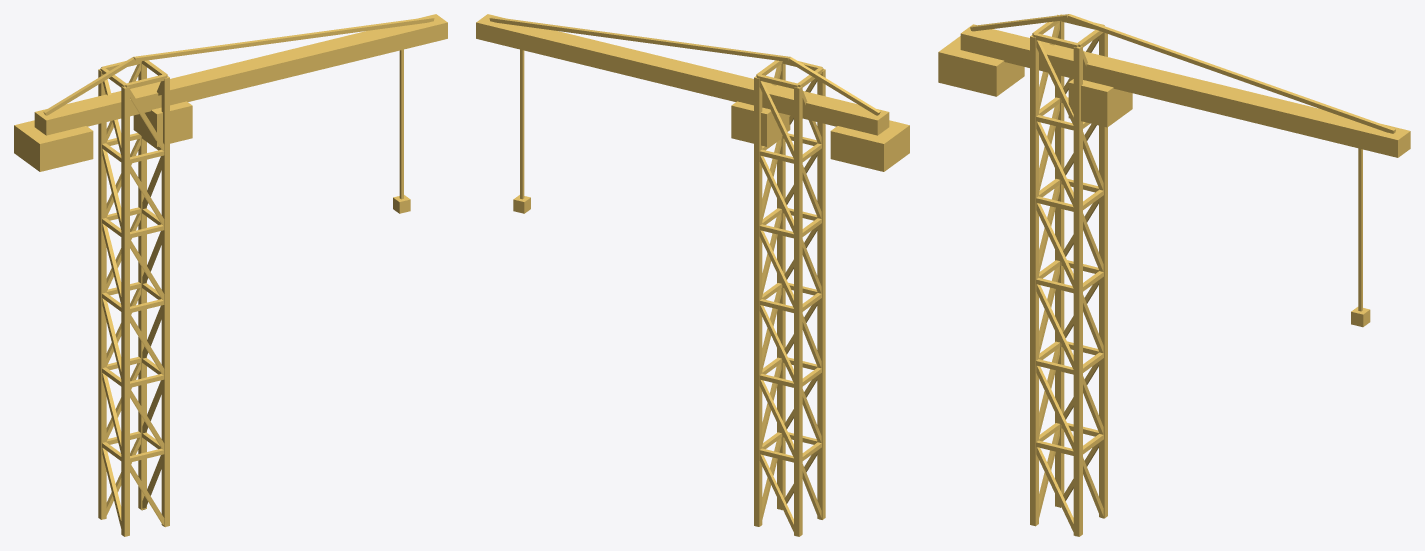
File: tower-crane.glb
The picture shows the model from 3 angles, left to right: view 1: azimuth 30°, elevation 25°; view 2: azimuth 150°, elevation 25°; view 3: azimuth 330°, elevation 25°; orthographic projection. The views are drawn at different scales.
Parts seen in each view (by area): view 1: tower-crane; view 2: tower-crane; view 3: tower-crane.
Part boxes in pixels (x1,y1,x2,y2): tower-crane: [14, 14, 447, 536]; tower-crane: [476, 14, 909, 536]; tower-crane: [938, 14, 1410, 536].
Bounding box in the file's own units: 0.9338 × 1 × 0.1024.
